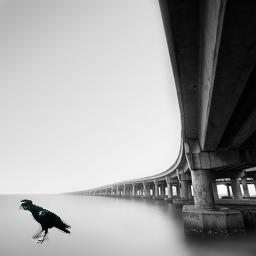Crow: (19, 199, 71, 244)
